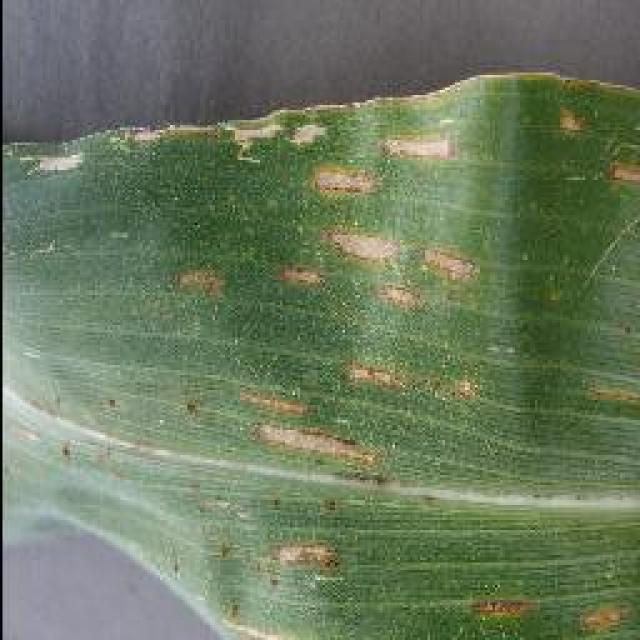Corn_Grey_Leaf_Spot: (110, 102, 640, 608)
